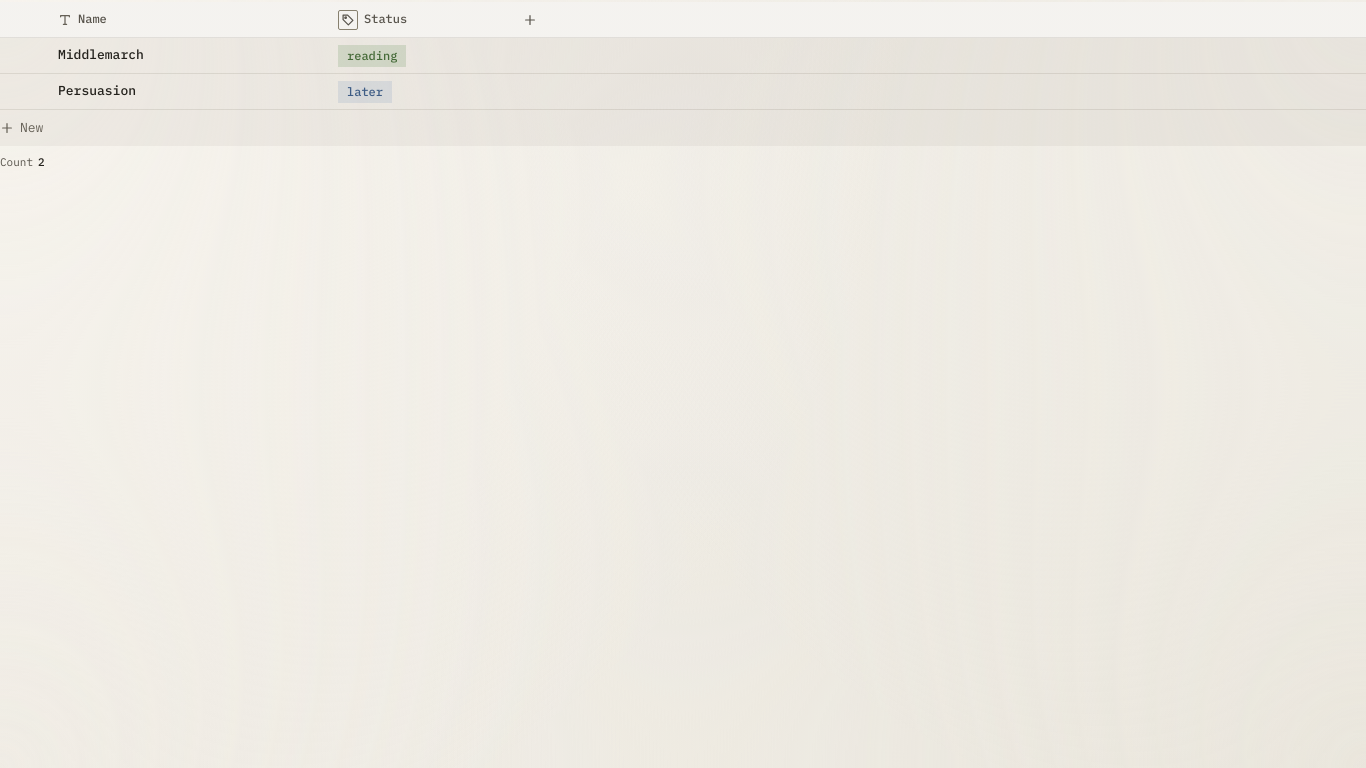
Test: the type glyph › opens only the choice of type, named for the column
The width and height of the screenshot is (1366, 768).
Click the button with class "db-th-type" at (348,20), box left=338, top=10, right=358, bottom=30
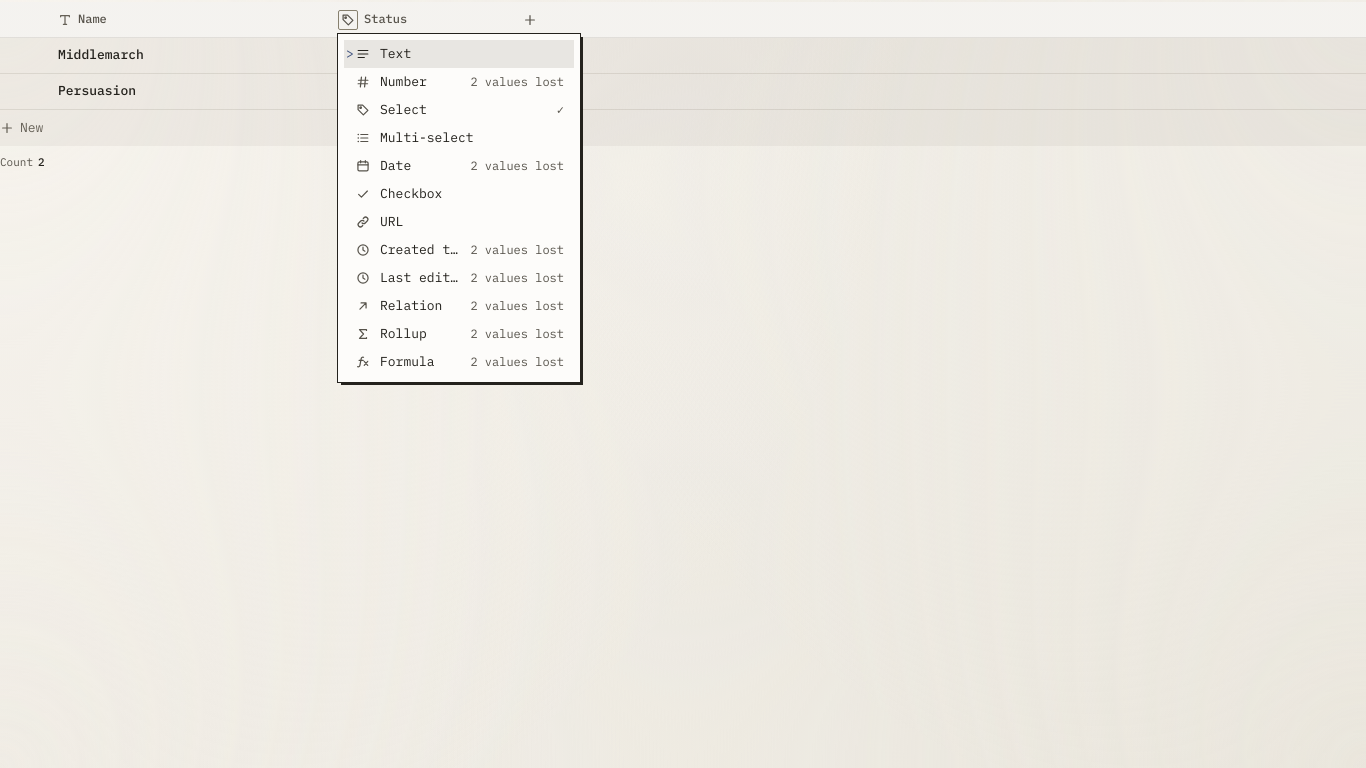
Now the menu item "Number 2 values lost" is shown, box left=344, top=68, right=574, bottom=96
